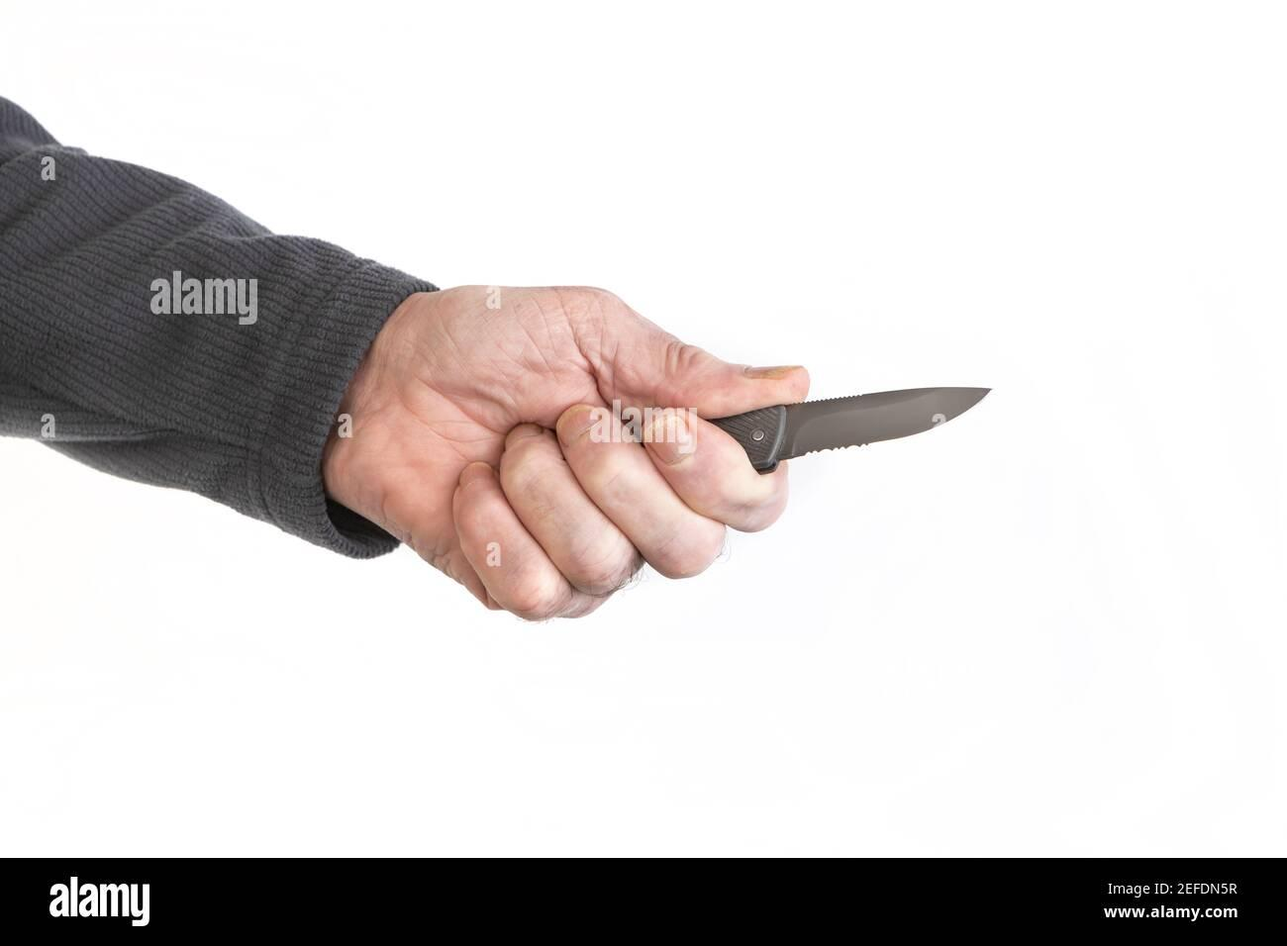Knife: (0, 94, 814, 620), (403, 283, 812, 623), (750, 382, 994, 476)
